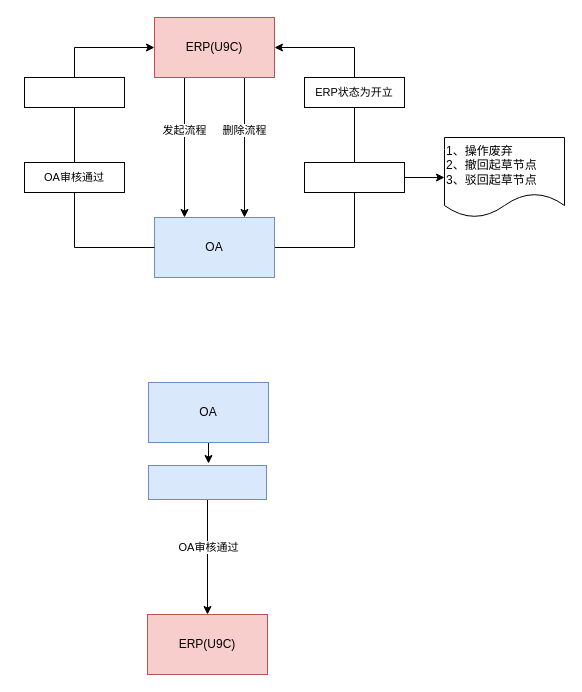
Image size: 582x692. Some labels were removed from this diagram. The shapes that lost their labels are listed below. From the top down, each one's box as (x1, y1, x2, y2) in pixels, then its label:
(24, 76, 124, 108): ERP状态为已核准
(304, 162, 404, 192): OA状态废弃
(148, 464, 266, 500): 发起流程单
